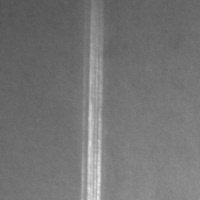scratches: (77, 17, 107, 199)
